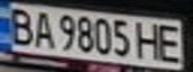0: (90, 15, 115, 56)
5: (112, 17, 136, 59)
8: (75, 14, 93, 54)
9: (54, 11, 78, 52)
A: (30, 8, 57, 48)
B: (3, 4, 39, 46)
E: (154, 21, 187, 64)
H: (133, 19, 163, 61)
